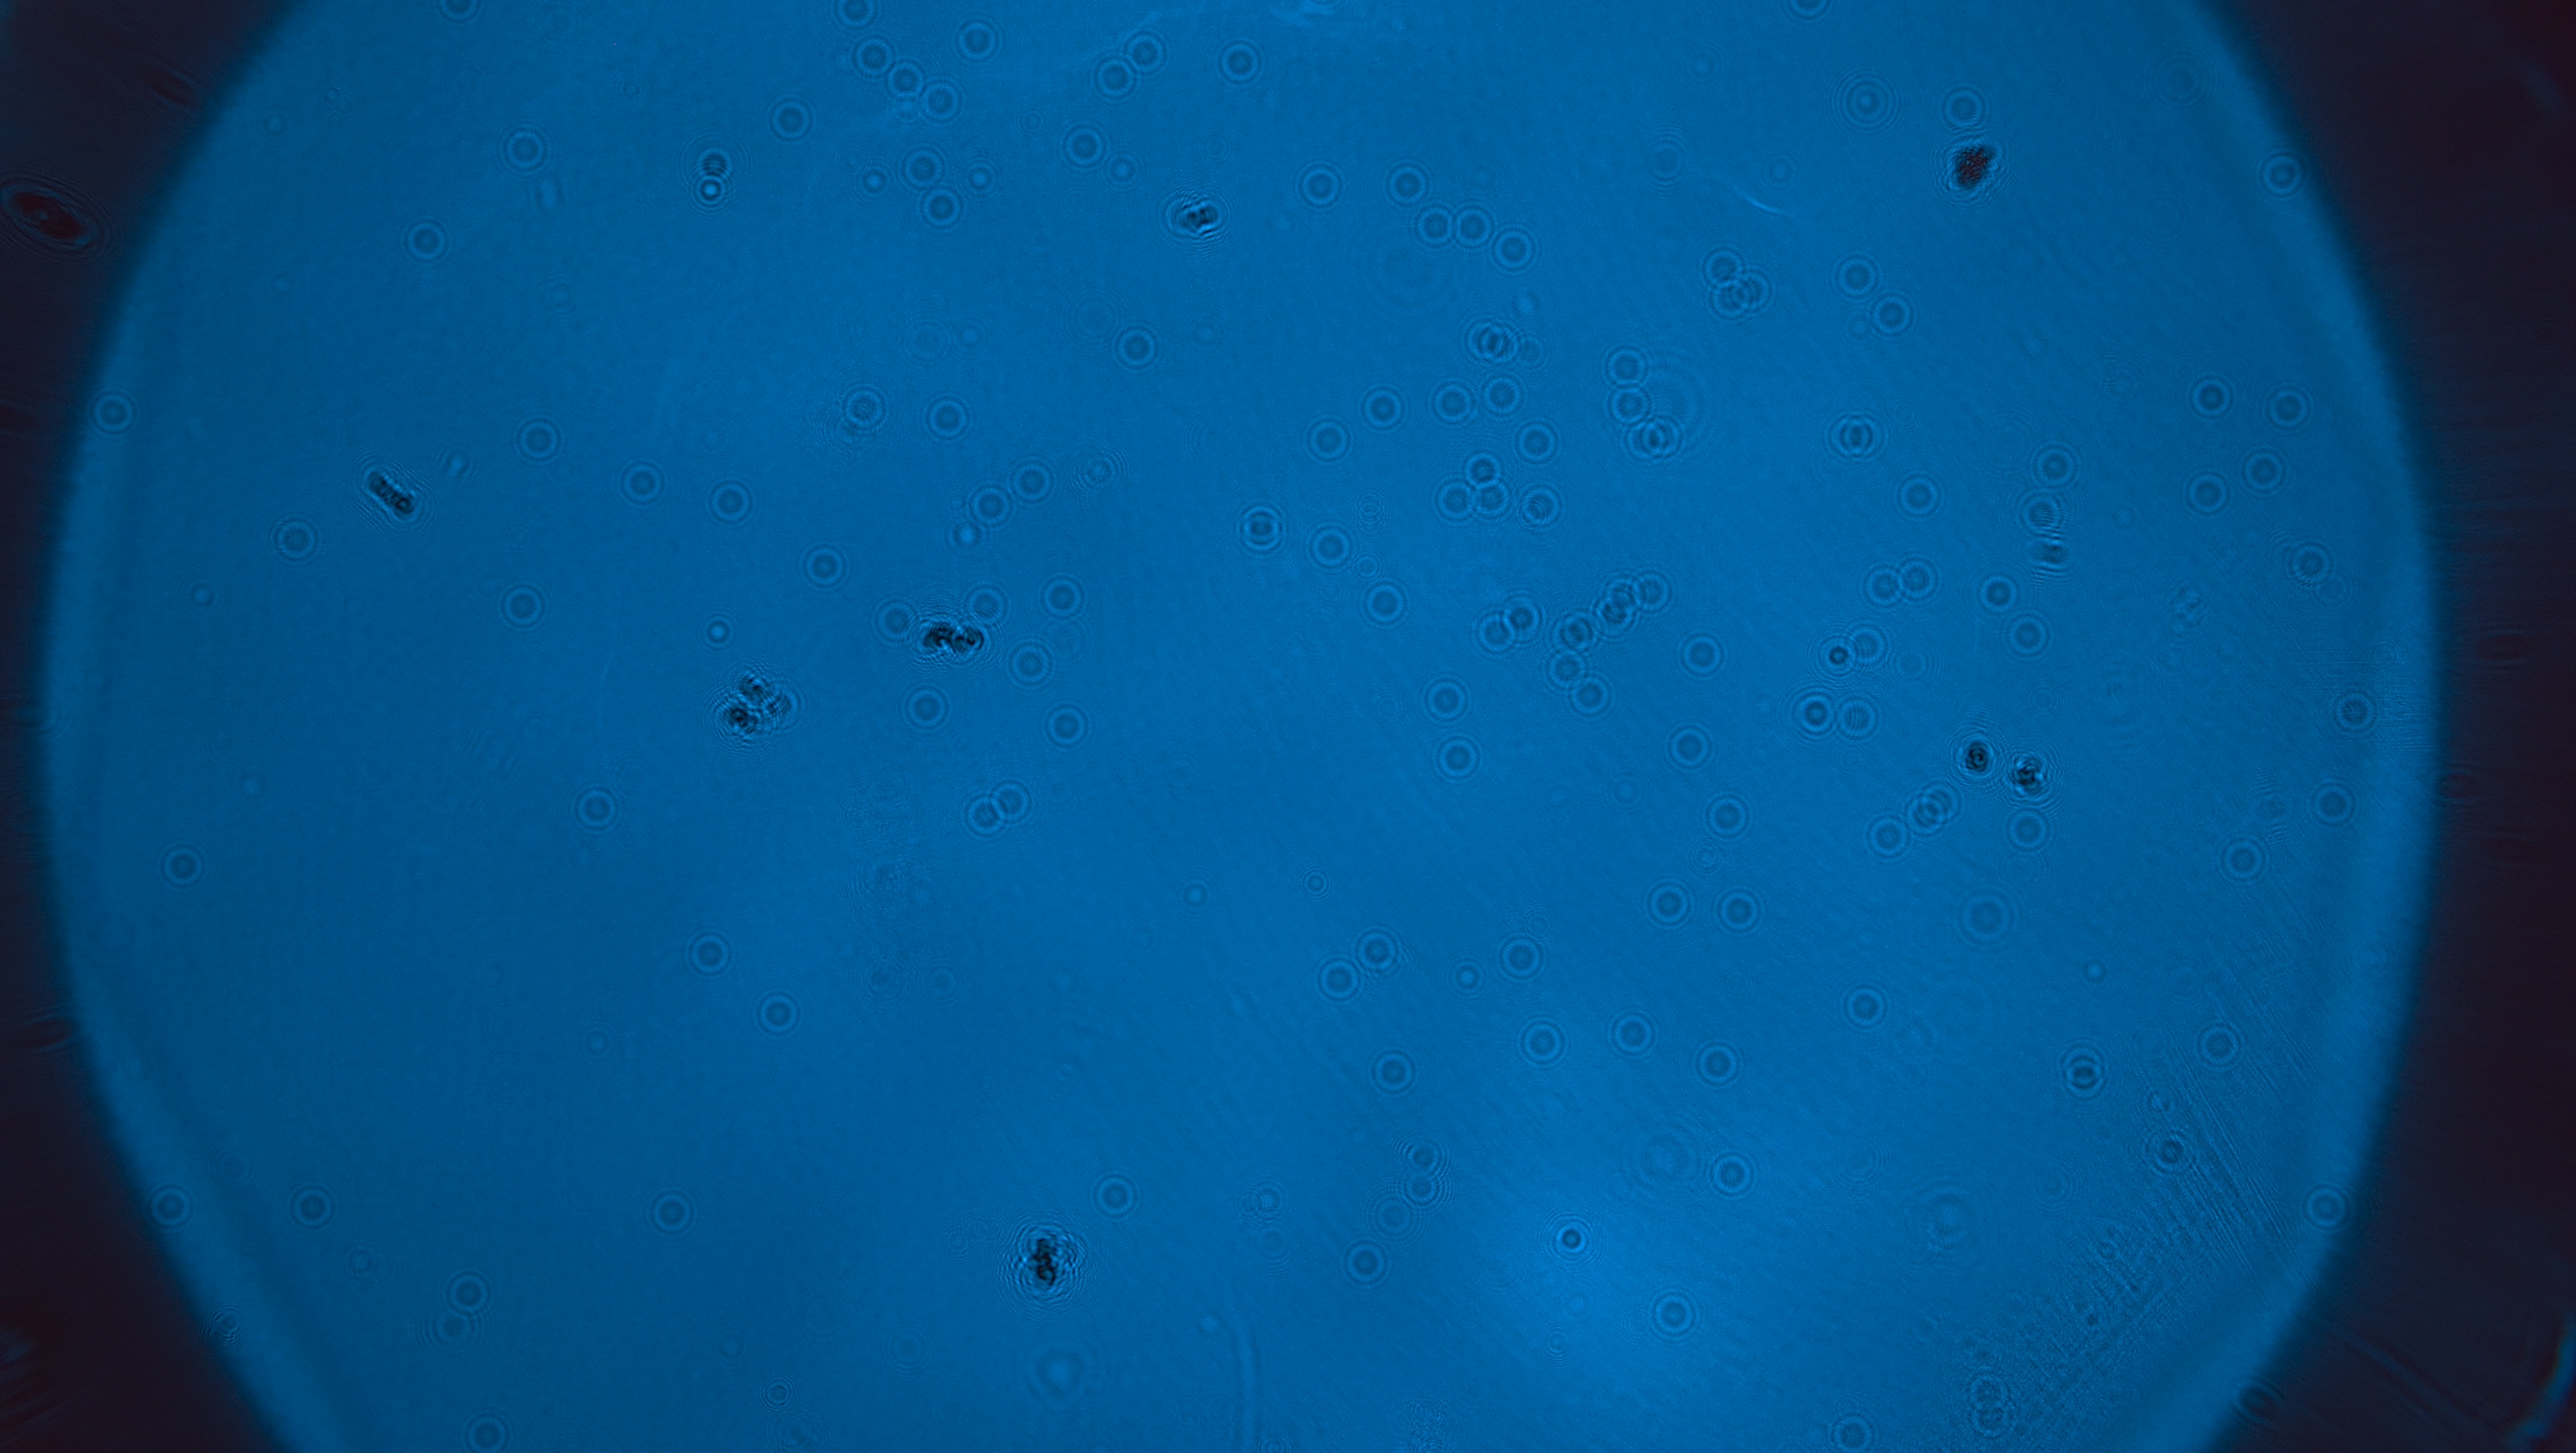bead: (1615, 407, 1691, 471), (1458, 308, 1529, 375), (1589, 566, 1651, 642), (2052, 1030, 2114, 1106), (1230, 490, 1292, 565), (1819, 405, 1893, 467), (1537, 598, 1614, 658), (2295, 1172, 2362, 1239), (1996, 796, 2059, 862), (1642, 1280, 1704, 1347), (494, 117, 557, 181), (264, 508, 327, 572), (1300, 515, 1364, 579), (1707, 878, 1771, 942), (1601, 1000, 1665, 1064), (1490, 926, 1553, 989), (2250, 142, 2316, 204), (1422, 370, 1484, 435), (2256, 373, 2318, 439), (1490, 584, 1550, 651), (395, 209, 456, 273), (508, 407, 570, 471), (865, 588, 927, 651), (998, 632, 1062, 694), (954, 782, 1016, 846), (1596, 334, 1658, 398), (1670, 621, 1732, 685), (2279, 533, 2342, 595), (2325, 678, 2387, 742), (2302, 775, 2365, 837), (2189, 1012, 2250, 1076), (1833, 975, 1897, 1037), (1697, 784, 1759, 848), (1700, 1142, 1762, 1205), (1511, 1012, 1575, 1074), (1362, 1039, 1424, 1103), (564, 777, 626, 841), (140, 1173, 202, 1237), (437, 1262, 501, 1324), (1001, 448, 1062, 513), (947, 9, 1008, 71), (492, 575, 554, 637), (701, 471, 763, 533), (1688, 1034, 1750, 1096), (1307, 949, 1369, 1011), (1483, 216, 1543, 280), (80, 382, 143, 442), (1108, 315, 1168, 379), (1033, 565, 1093, 628), (955, 573, 1016, 637), (2233, 439, 2293, 503), (1890, 462, 1950, 526), (1854, 556, 1918, 616), (1997, 603, 2058, 667), (1348, 919, 1408, 982), (639, 1182, 702, 1242), (1957, 1388, 2024, 1444), (890, 138, 950, 200), (1054, 113, 1115, 175), (1115, 21, 1175, 83), (1208, 30, 1270, 90), (1290, 154, 1350, 216), (1826, 246, 1888, 306), (959, 476, 1019, 538), (895, 676, 955, 738), (1299, 409, 1359, 471), (1355, 572, 1415, 634), (1507, 411, 1568, 473), (1463, 467, 1523, 529), (2024, 434, 2086, 494), (1426, 727, 1488, 788), (1467, 602, 1527, 664), (1557, 665, 1619, 726), (1660, 715, 1720, 777), (1886, 547, 1946, 609), (1836, 612, 1897, 674), (2213, 828, 2273, 890), (1858, 805, 1918, 867), (1638, 873, 1698, 934), (1085, 1165, 1145, 1226), (679, 926, 740, 988), (1355, 377, 1414, 441), (1426, 467, 1484, 531), (1828, 685, 1886, 749), (761, 88, 821, 149), (1085, 46, 1145, 106), (1442, 196, 1502, 257), (614, 451, 674, 511), (833, 375, 893, 435), (1509, 476, 1569, 536), (1599, 375, 1660, 435), (1621, 561, 1681, 621), (1909, 772, 1969, 832), (1336, 1232, 1396, 1292), (152, 834, 212, 894), (1378, 152, 1437, 214), (1407, 195, 1465, 257), (918, 386, 977, 448), (1474, 365, 1532, 427), (1895, 784, 1953, 846), (911, 179, 971, 237), (1932, 76, 1992, 135), (794, 536, 853, 596), (980, 770, 1039, 830), (1037, 696, 1095, 756), (2180, 462, 2238, 522), (748, 984, 807, 1044), (281, 1177, 341, 1235), (844, 30, 906, 87), (1414, 669, 1476, 726), (761, 669, 810, 738), (1863, 288, 1921, 347), (1537, 639, 1596, 697), (1700, 271, 1760, 327), (915, 71, 970, 133), (1693, 241, 1752, 297), (1723, 262, 1778, 322), (1955, 1365, 2017, 1418), (1822, 1402, 1882, 1453), (456, 1405, 518, 1453), (824, 0, 888, 35), (428, 0, 490, 30), (1776, 0, 1840, 27)
